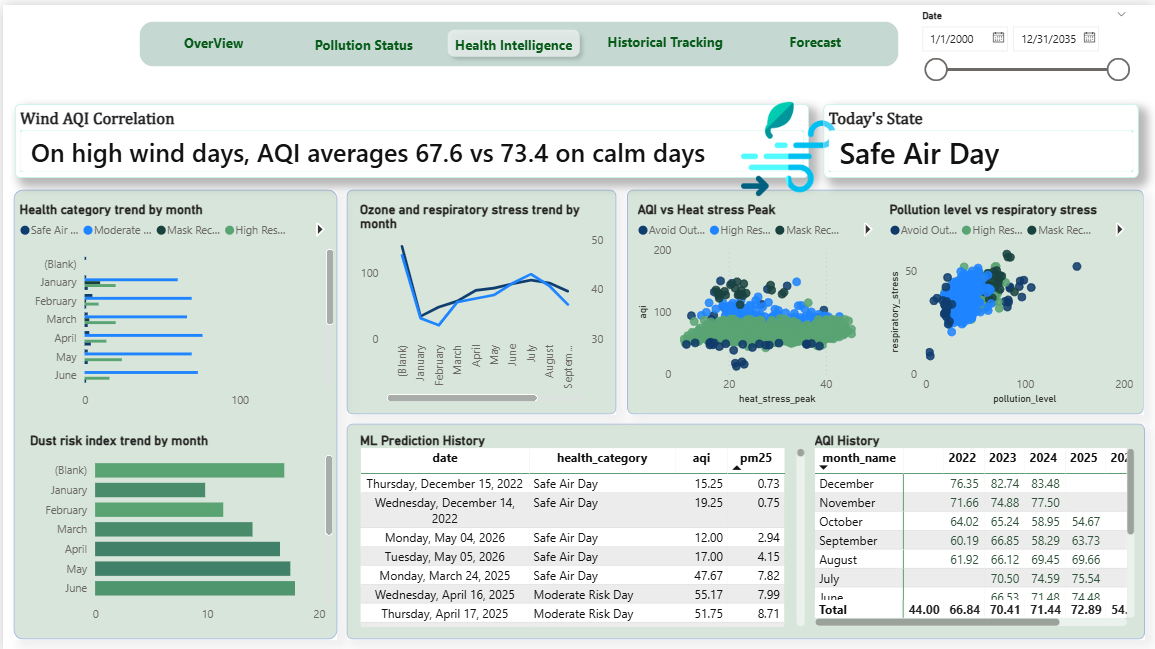

This screenshot's page, from the dashboard's own definition file:
{"tool":"powerbi","page":{"name":"Page 2Health Intelligence","canvas":[1280,720],"ordinal":1},"visuals":[{"type":"cardVisual","fields":{"Data":["DAX.Latest Health Category"]},"box":[10,0,280,101.7],"z":0},{"type":"barChart","fields":{"Category":["DimDate.month"],"Y":["DAX.Total Days"],"Series":["EnvironmentalFeatures.health_category"]},"box":[0,126.4,280,271.8],"z":1},{"type":"scatterChart","fields":{"X":["EnvironmentalFeatures.pollution_level"],"Y":["EnvironmentalFeatures.respiratory_stress"],"Series":["EnvironmentalFeatures.health_category"]},"box":[0,408,280,272],"z":2},{"type":"tableEx","fields":{"Values":["DAX.Safe Air Days","DAX.Moderate Risk Days","DAX.Mask Recommended Days","DAX.High Respiratory Days","DAX.Dangerous Days Rate","DAX.Avoid Outdoor Days"]},"box":[415,35,730,67.5],"z":3},{"type":"tableEx","fields":{"Values":["RiskPredictions.date","RiskPredictions.health_category","RiskPredictions.aqi","RiskPredictions.pm25","RiskPredictions.model_version"]},"box":[332.5,102.5,810,205],"z":4},{"type":"pivotTable","fields":{"Rows":["DimDate.month_name"],"Columns":["DimDate.year"],"Values":["DAX.Average AQI"]},"box":[332.5,307.5,810,202.5],"z":5},{"type":"lineChart","fields":{"Category":["DimDate.month"],"Y":["Sum(EnvironmentalFeatures.ozone)"],"Y2":["Avg(EnvironmentalFeatures.respiratory_stress)"]},"box":[333,511,810,169],"z":6},{"type":"cardVisual","fields":{"Data":["DAX.Wind AQI Correlation Label"]},"box":[252.5,0,180,102.5],"z":7}]}

Visuals, with their boxes on the page's 1280x720 design canvas (x1, y1, x2, y2). These are canvas units, not pixel positions in the 1155x649 screenshot, which may show the page scaled, cropped or inside an application window:
cardVisual - DAX.Latest Health Category: 10,0,290,102
barChart - DimDate.month x DAX.Total Days: 0,126,280,398
scatterChart - EnvironmentalFeatures.pollution_level x EnvironmentalFeatures.respiratory_stress: 0,408,280,680
tableEx - DAX.Safe Air Days x DAX.Moderate Risk Days: 415,35,1145,102
tableEx - RiskPredictions.date x RiskPredictions.health_category: 332,102,1142,308
pivotTable - DimDate.month_name x DimDate.year: 332,308,1142,510
lineChart - DimDate.month x Sum(EnvironmentalFeatures.ozone): 333,511,1143,680
cardVisual - DAX.Wind AQI Correlation Label: 252,0,432,102
